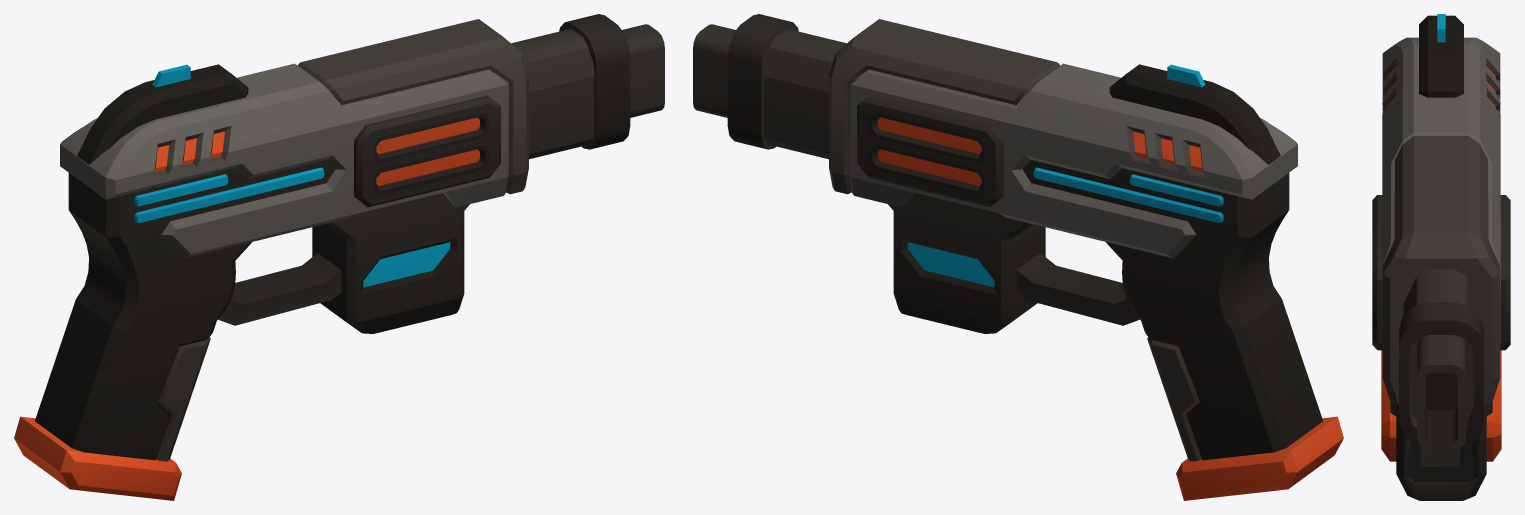
The model's file is Pistol6_Base.fbx.
The picture shows the model from 3 angles, left to right: view 1: azimuth 30°, elevation 25°; view 2: azimuth 150°, elevation 25°; view 3: azimuth 270°, elevation 25°; orthographic projection. The views are drawn at different scales.
Visible parts, largest first — view 1: Pistol6_Base; view 2: Pistol6_Base; view 3: Pistol6_Base.
Boxes of the visible parts, left/top/right/bottom form: Pistol6_Base: left=14, top=14, right=664, bottom=500; Pistol6_Base: left=693, top=14, right=1343, bottom=500; Pistol6_Base: left=1372, top=14, right=1510, bottom=500.
Bounding box in the file's own units: 27.85 × 17.64 × 4.87.
